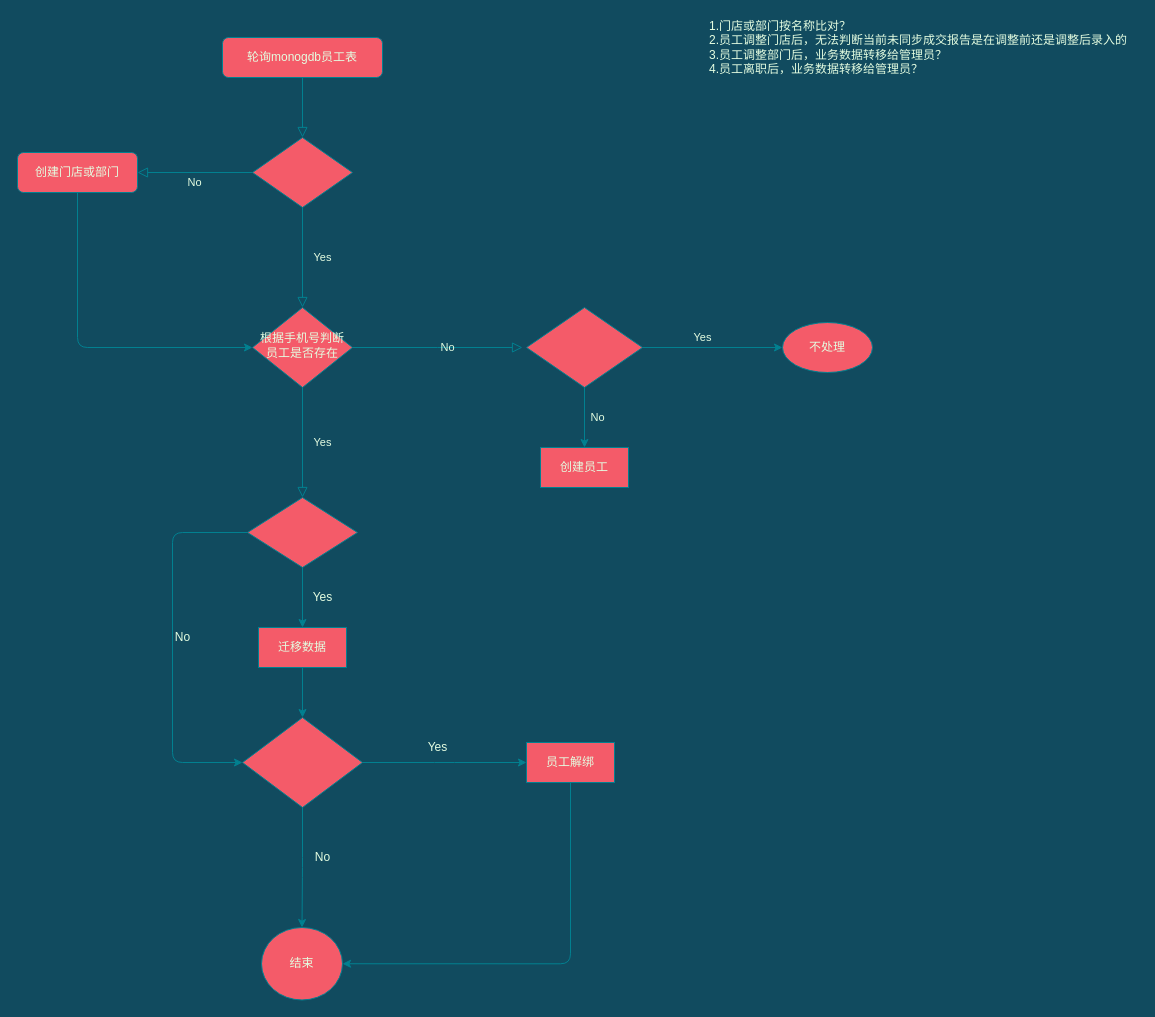
The diagram is 1155 pixels wide and 1017 high, and some of its shapes have lost their labels. Each missing label, with the centre of its shape:
是否离职: (x=302, y=762)
是否调整部门: (x=302, y=532)
校验员工是否离职: (x=584, y=347)
门店或部门是否已存在: (x=302, y=172)
